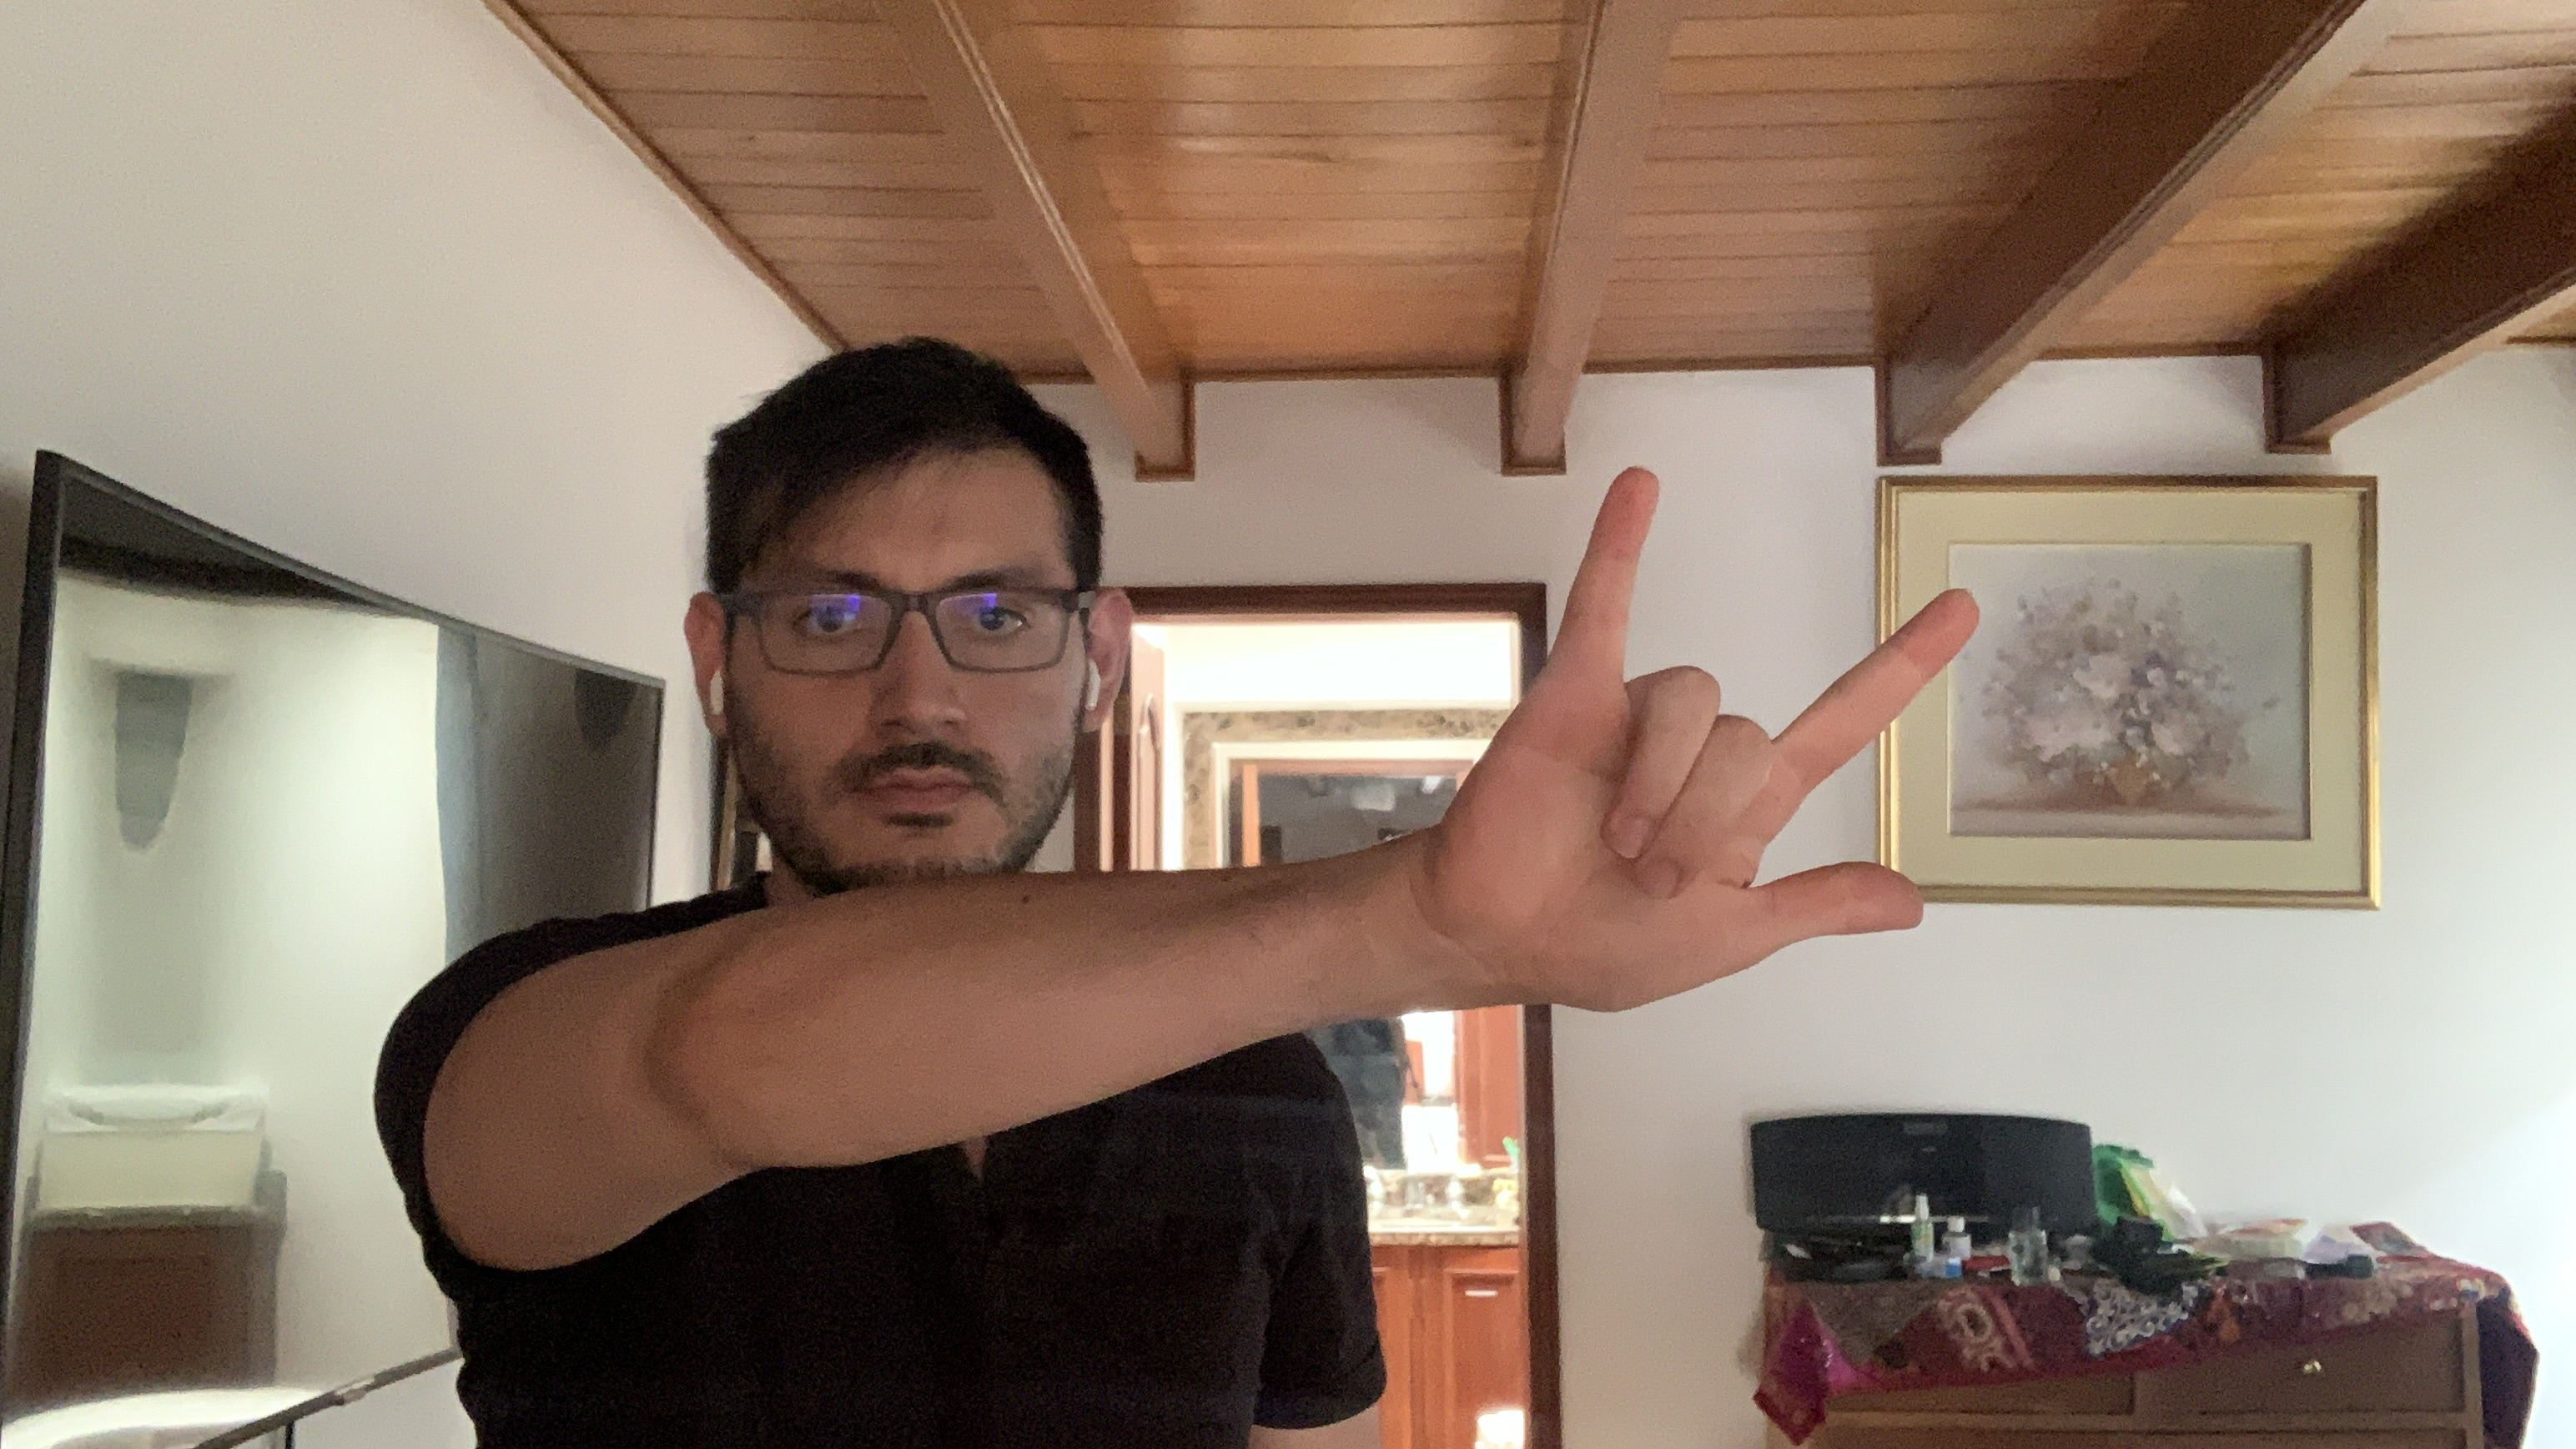I Love You: (1407, 453, 1996, 1030)
